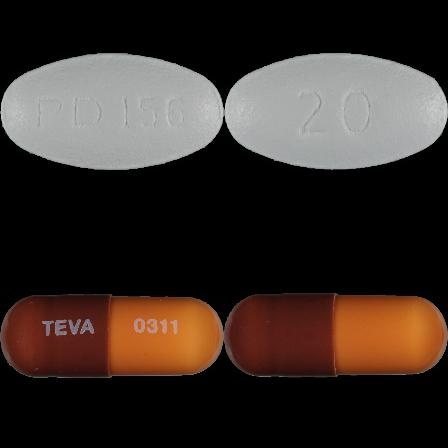63629-1447: (0, 0, 224, 224)
